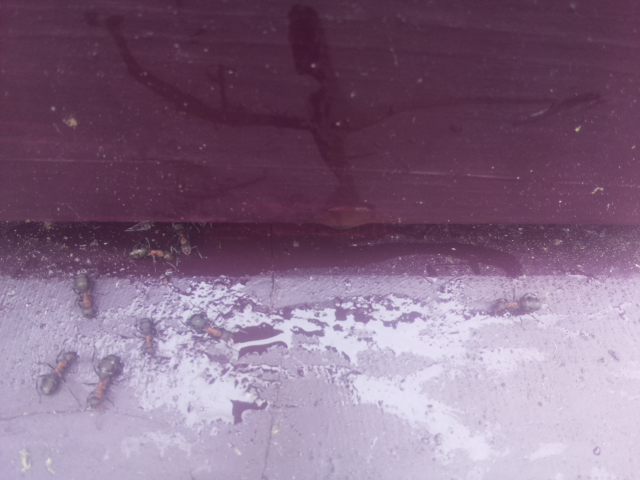ant: (31, 337, 87, 407), (80, 343, 127, 419), (64, 266, 103, 323), (181, 309, 229, 342), (486, 291, 546, 316), (135, 311, 159, 362), (124, 240, 172, 264), (169, 218, 193, 255)
